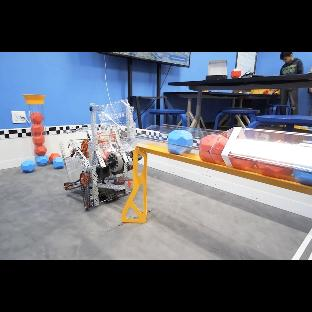Goal: (122, 125, 312, 223)
Loader: (24, 95, 49, 165)
Robot: (60, 100, 136, 210)
V5_BLUE: (21, 161, 35, 172), (52, 157, 64, 169), (36, 155, 49, 166)
V5_RED: (49, 153, 61, 163)
blueingoal: (168, 130, 193, 155), (294, 171, 312, 186)
redingoal: (229, 158, 292, 179), (199, 134, 229, 166)
redloader: (30, 112, 47, 157)
